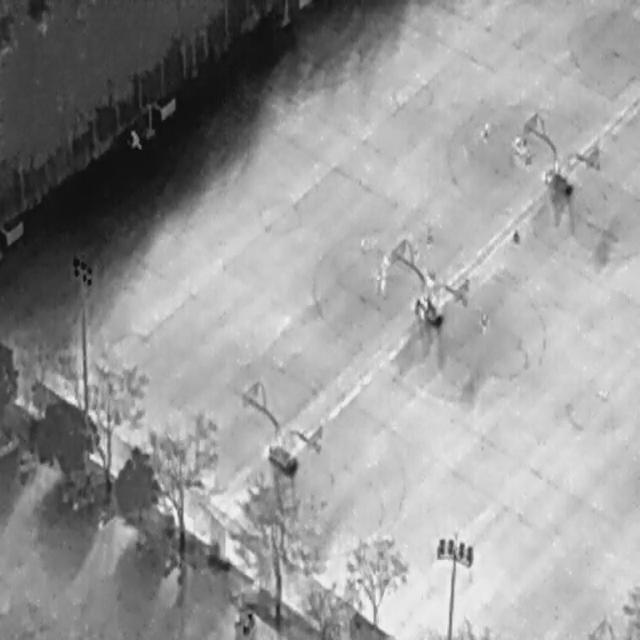Person: (124, 125, 145, 154), (413, 296, 426, 322), (479, 116, 490, 142), (478, 311, 489, 335), (423, 270, 436, 288), (378, 254, 390, 272), (357, 235, 368, 254), (424, 228, 434, 248), (542, 168, 554, 184), (378, 270, 387, 290), (512, 135, 522, 151)
